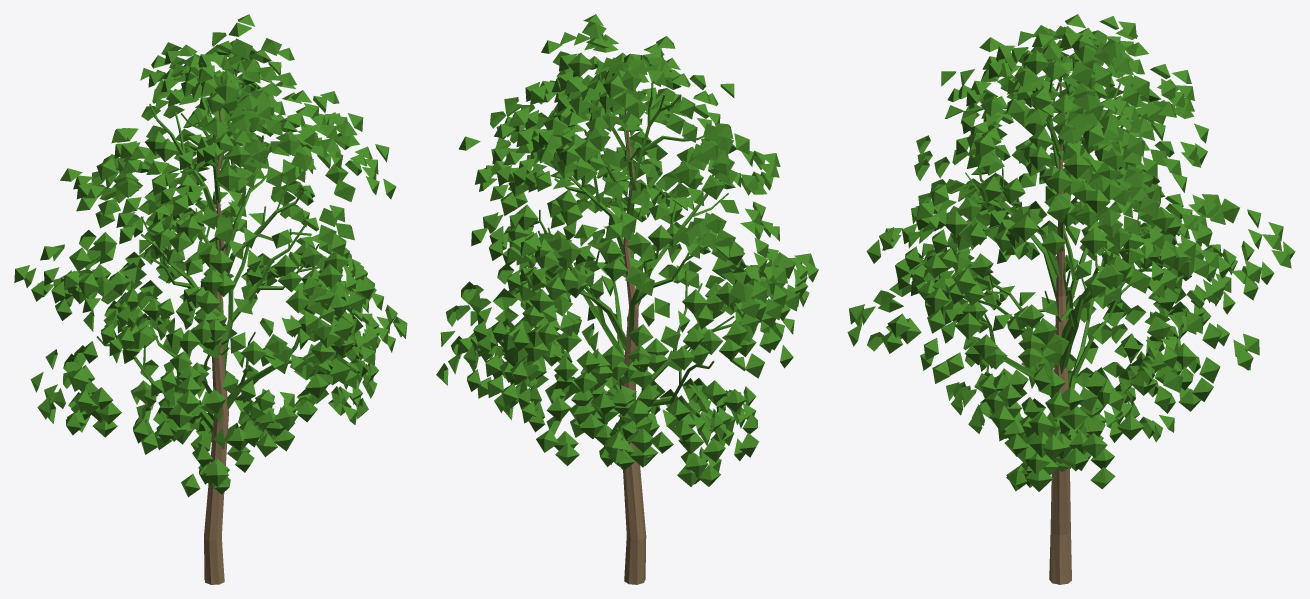
Rendered from Tree.dae.
The picture shows the model from 3 angles, left to right: view 1: azimuth 30°, elevation 25°; view 2: azimuth 150°, elevation 25°; view 3: azimuth 270°, elevation 25°; orthographic projection. The views are drawn at different scales.
Parts seen in each view (by area): view 1: Realistic Tree Copy 1 (×2); view 2: Realistic Tree Copy 1; view 3: Realistic Tree Copy 1 (×2).
Boxes of the visible parts, x1=… form: Realistic Tree Copy 1 (×2): x1=204, y1=110, x2=266, y2=584; Realistic Tree Copy 1: x1=619, y1=111, x2=646, y2=584; Realistic Tree Copy 1 (×2): x1=1049, y1=53, x2=1107, y2=584.
Bounding box in the file's own units: 1.83 × 1.84 × 2.64.
